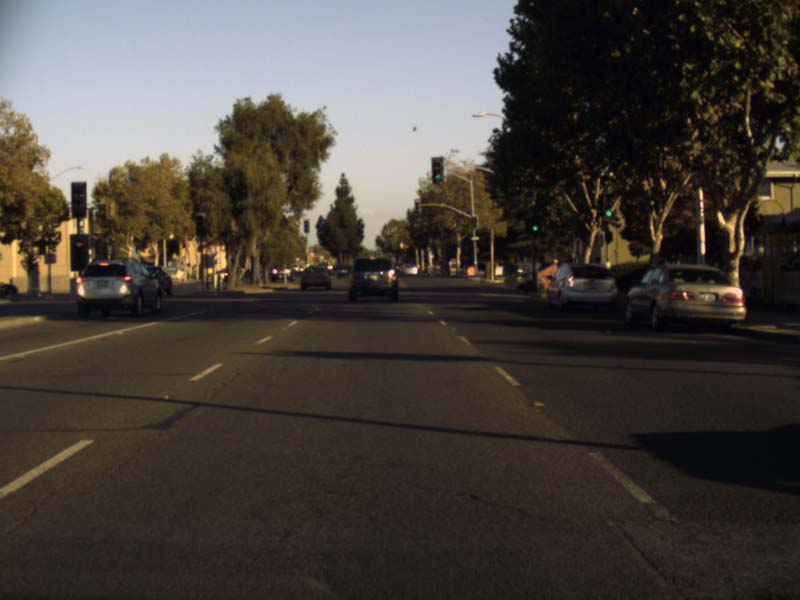Green: (432, 157, 444, 183), (529, 209, 540, 235), (604, 196, 611, 216)
Red: (75, 239, 83, 265)
